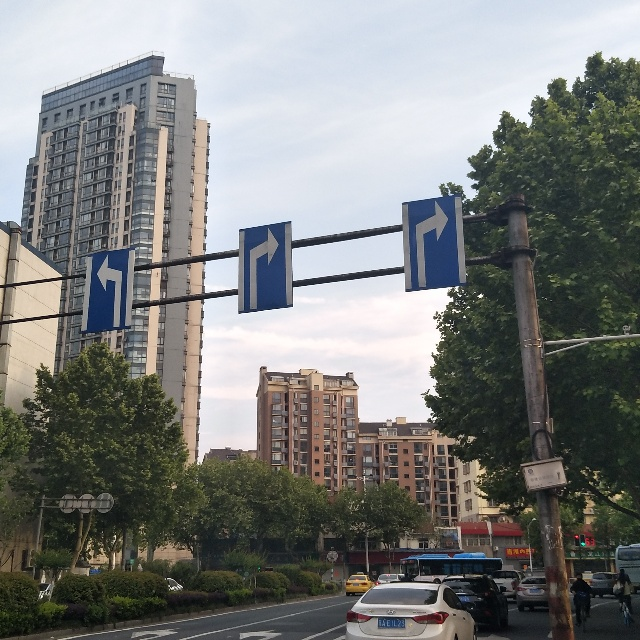left: (92, 257, 131, 329)
right: (403, 202, 460, 296), (241, 226, 293, 306)
